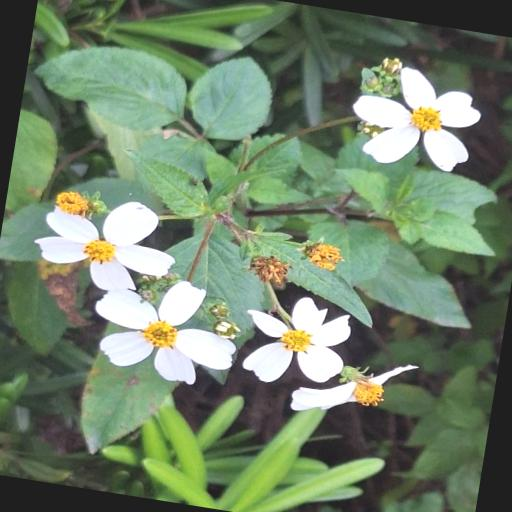Bidens: (342, 62, 487, 181), (90, 276, 239, 384), (34, 190, 183, 292), (243, 292, 358, 388)
